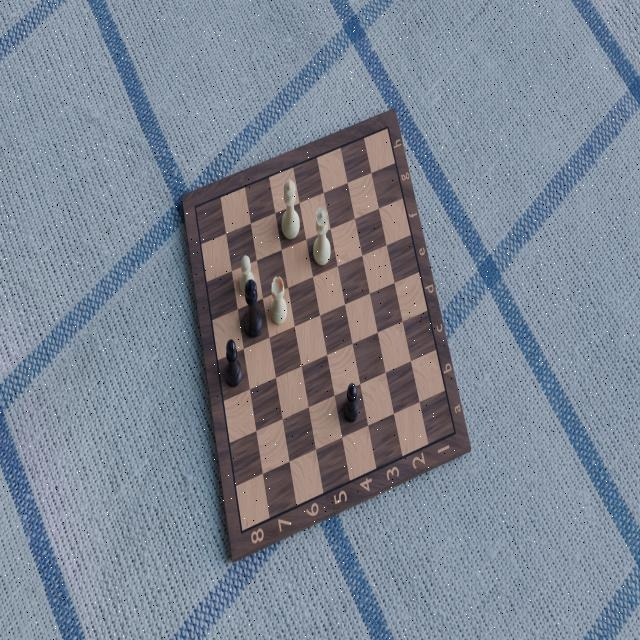black-bishop: (221, 338, 242, 390)
black-king: (243, 276, 265, 340)
black-pawn: (341, 382, 360, 425)
white-king: (279, 176, 300, 241)
white-pawn: (240, 251, 258, 300)
white-queen: (311, 204, 332, 267)
white-rook: (269, 271, 289, 328)
